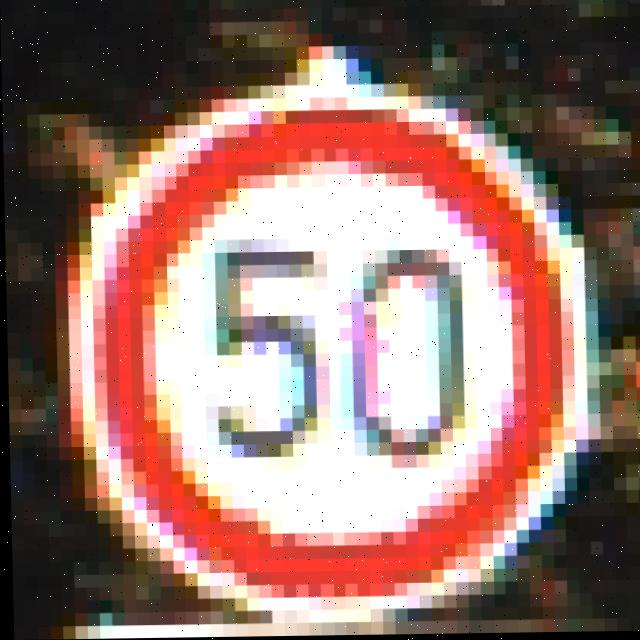speed_limit_50: (75, 89, 606, 628)
